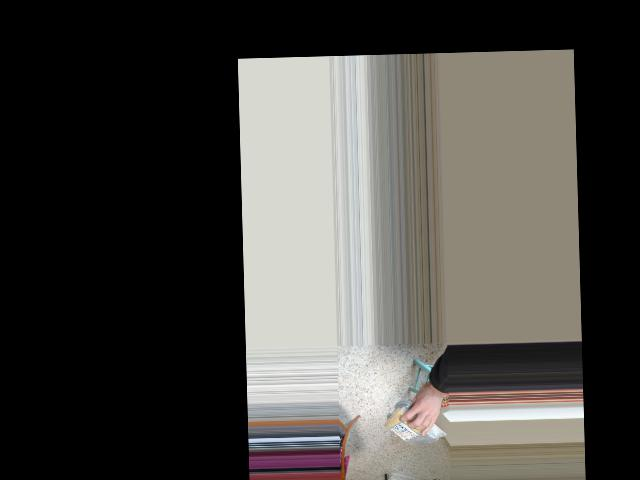cheese: (377, 411, 446, 443)
